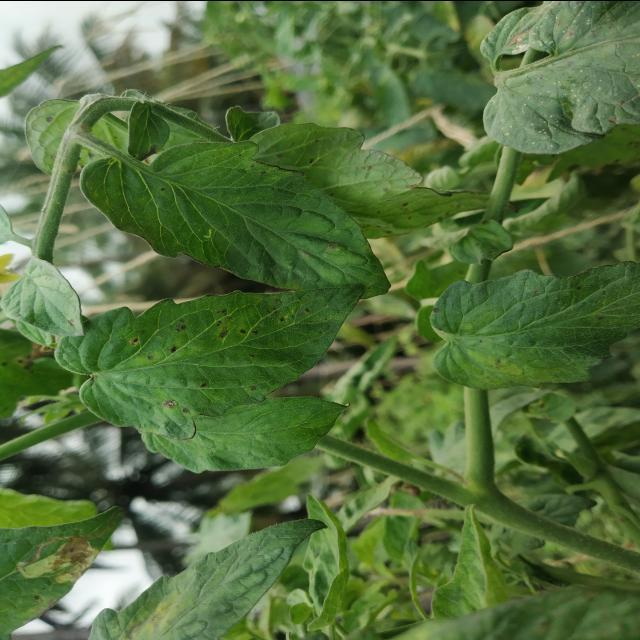Tomato mosaic virus leaf: (96, 285, 360, 435), (430, 257, 640, 397)
